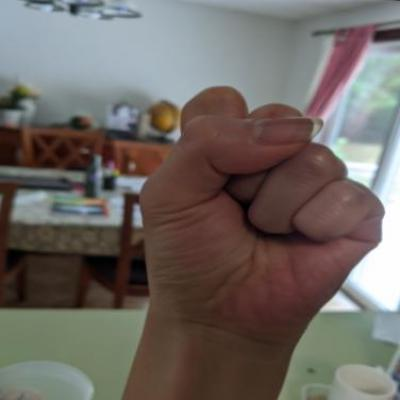hand: (118, 75, 399, 358)
